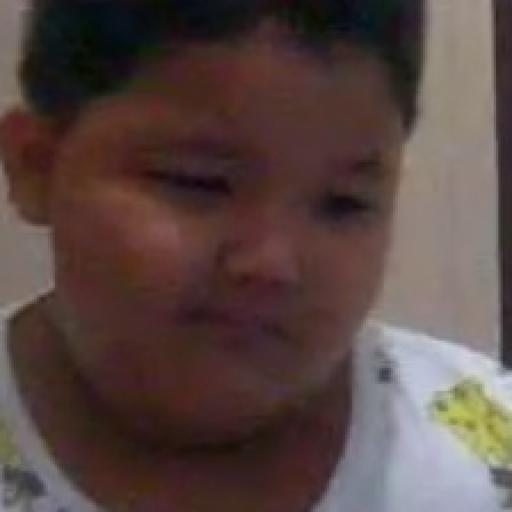Autism: (24, 18, 428, 477)
